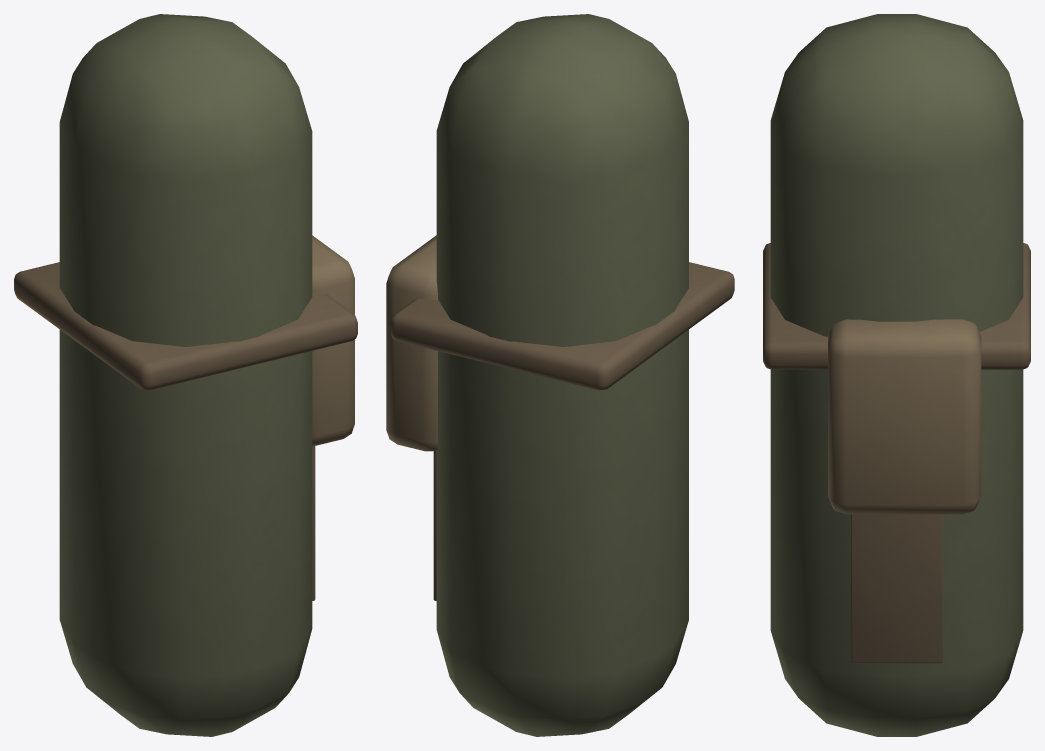
Rendered from SM_OperatorAThigh.fbx.
The picture shows the model from 3 angles, left to right: view 1: azimuth 30°, elevation 25°; view 2: azimuth 150°, elevation 25°; view 3: azimuth 270°, elevation 25°; orthographic projection.
Parts seen in each view (by area): view 1: SM_OperatorAThigh; view 2: SM_OperatorAThigh; view 3: SM_OperatorAThigh.
Part boxes in pixels (x1,y1,x2,y2): SM_OperatorAThigh: (14, 14, 357, 736); SM_OperatorAThigh: (386, 14, 734, 736); SM_OperatorAThigh: (763, 14, 1030, 736).
Size of the model in its own units: 0.19 by 0.5 by 0.175.
Materials: 1 (1 with a texture image).
